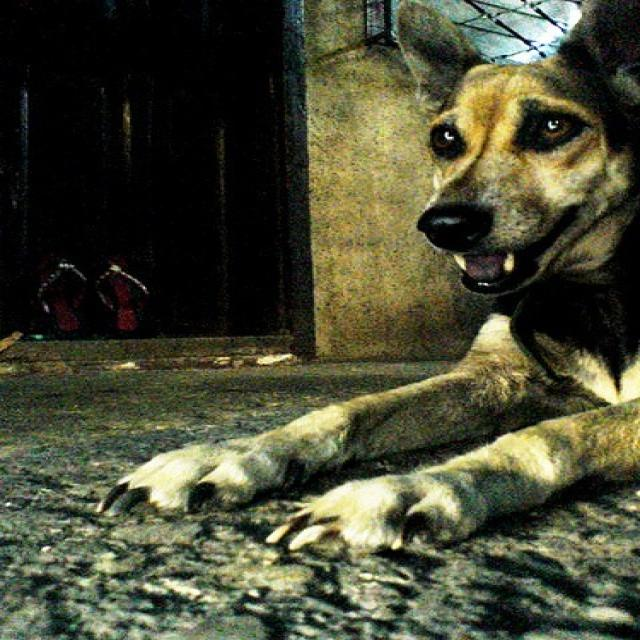dog: (91, 2, 638, 556)
